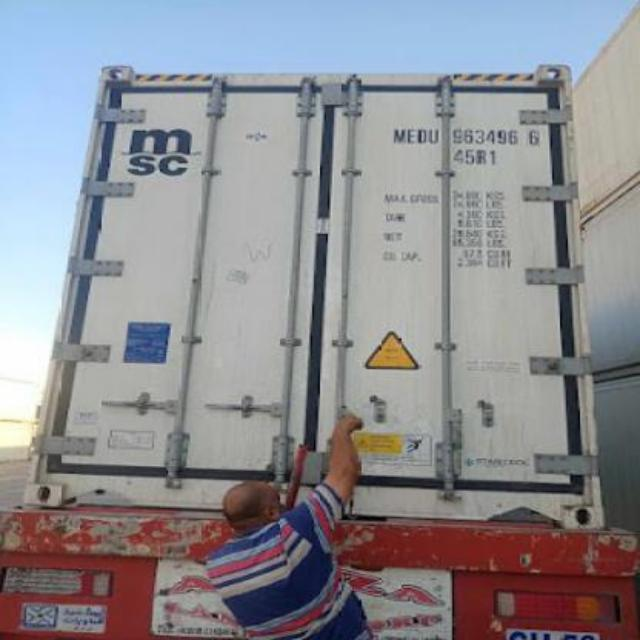3: (474, 121, 486, 142)
4: (486, 119, 494, 145)
6: (526, 124, 542, 148), (508, 120, 520, 150), (462, 122, 474, 146)
9: (494, 120, 506, 146), (450, 122, 462, 144)
D: (416, 122, 426, 148)
E: (406, 122, 416, 146)
M: (392, 122, 406, 146)
U: (428, 122, 440, 144)
